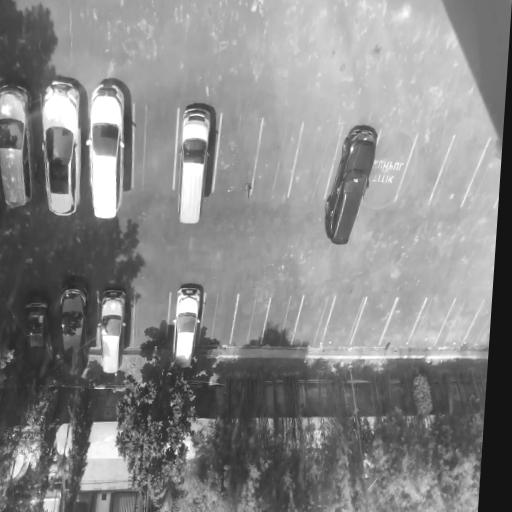Car: (319, 122, 382, 248), (40, 80, 83, 219), (87, 81, 124, 226), (174, 107, 214, 226), (0, 82, 34, 210), (18, 289, 57, 389), (55, 281, 91, 378), (170, 283, 203, 373), (100, 290, 128, 375)
Space Available: (289, 119, 344, 201), (250, 118, 304, 200), (429, 137, 490, 207), (394, 136, 455, 205), (213, 116, 265, 196), (132, 101, 179, 189), (361, 132, 417, 203), (461, 138, 503, 210), (406, 295, 457, 345), (351, 297, 399, 345), (380, 296, 427, 345), (435, 300, 485, 346), (323, 294, 367, 345), (260, 295, 304, 346), (291, 297, 336, 346), (199, 293, 240, 345), (132, 293, 170, 349), (230, 295, 272, 345), (463, 299, 492, 347)
